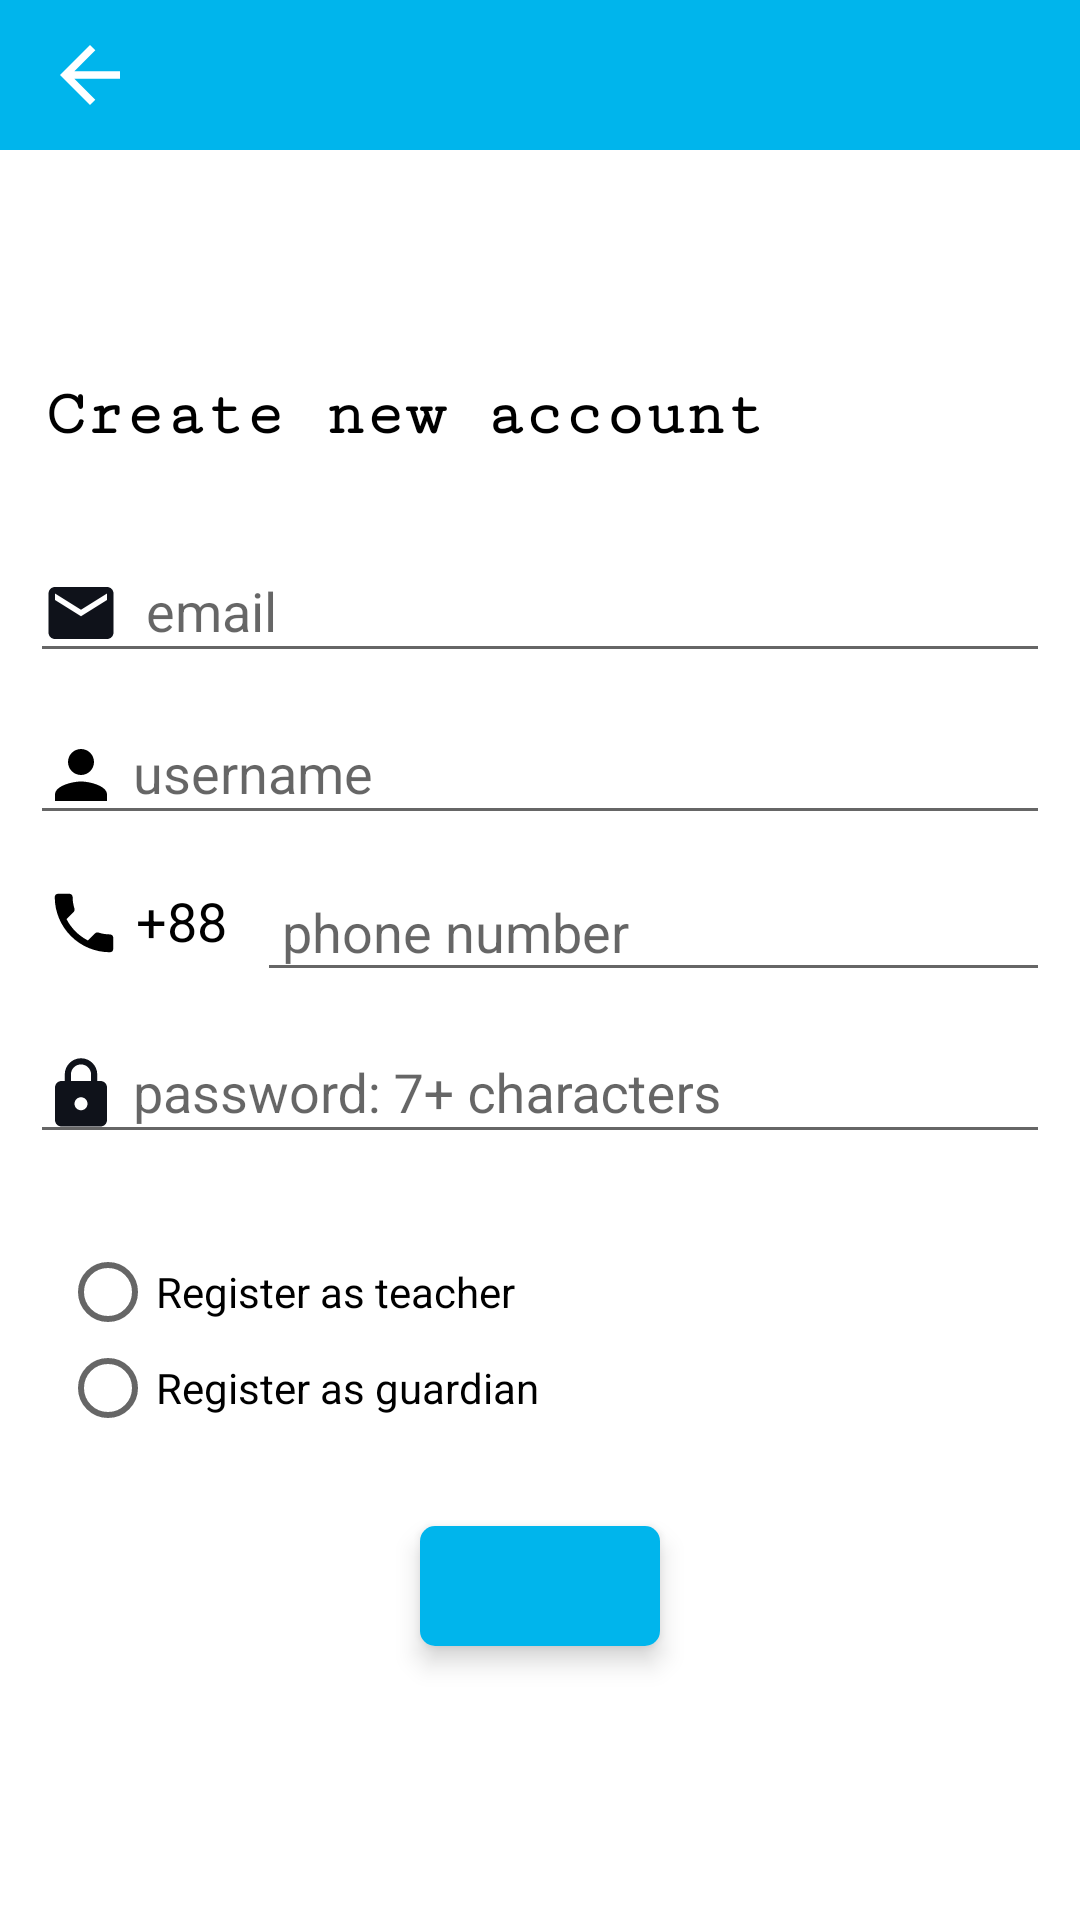

Where icons sit on this 1080*1920 app screen, as (x1, y1, x2, y2):
arrow back: (60, 45, 120, 105)
